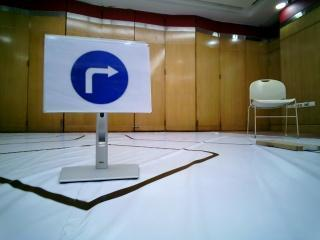right: (46, 35, 149, 110)
